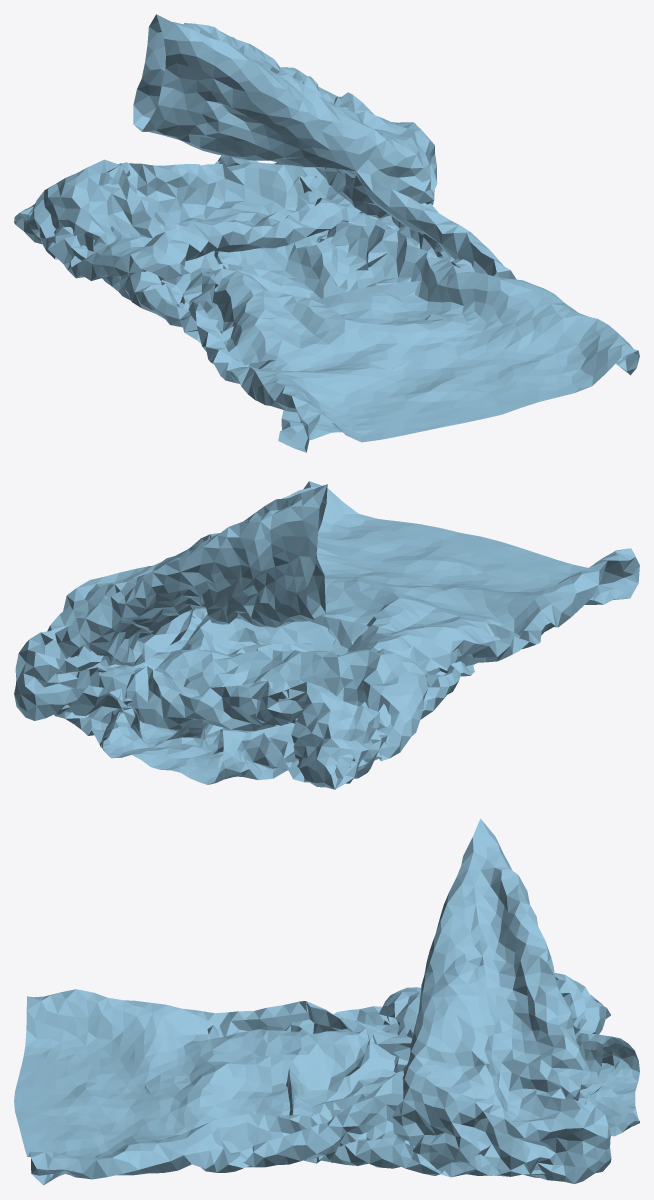
Rendered from frame_16.glb.
The picture shows the model from 3 angles, top to bottom: view 1: azimuth 30°, elevation 25°; view 2: azimuth 150°, elevation 25°; view 3: azimuth 270°, elevation 25°; orthographic projection. The views are drawn at different scales.
Visible parts, largest first — view 1: frame_16.obj; view 2: frame_16.obj; view 3: frame_16.obj.
Part boxes in pixels (x1,y1,x2,y2): frame_16.obj: (14, 14, 639, 452); frame_16.obj: (14, 481, 639, 789); frame_16.obj: (14, 818, 639, 1185).
Bounding box in the file's own units: 0.9289 × 0.629 × 1.43.
